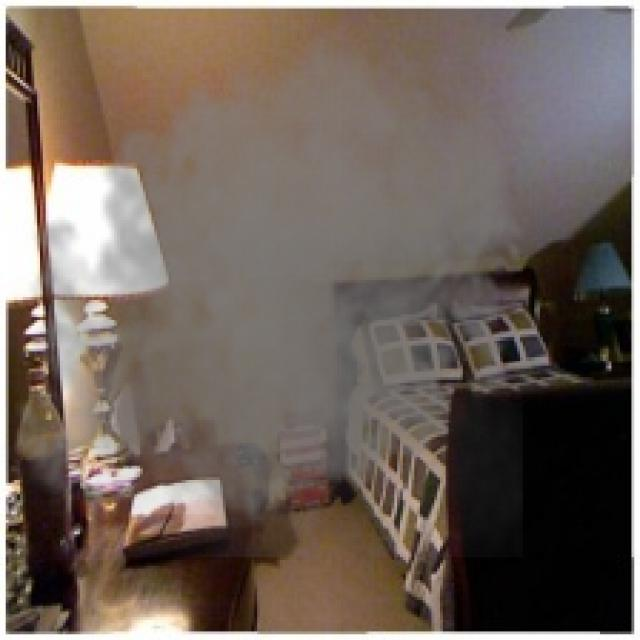smoke: (0, 5, 535, 558)
